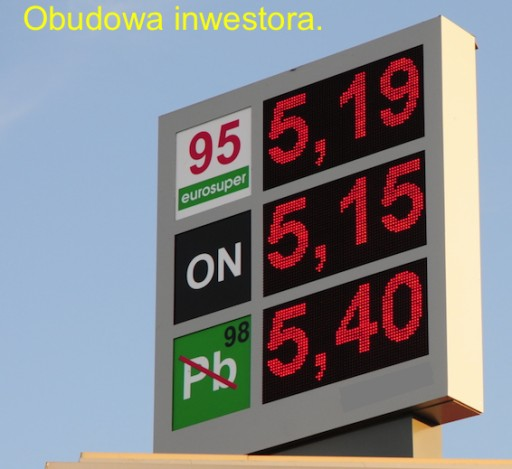ON: (171, 211, 249, 319)
PB95: (170, 113, 247, 212)
